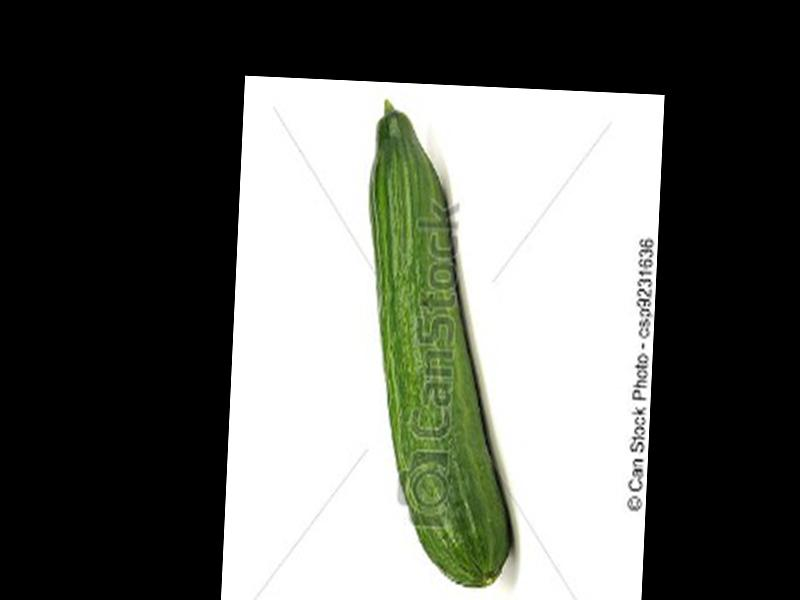Cucumber: (353, 101, 531, 586)
